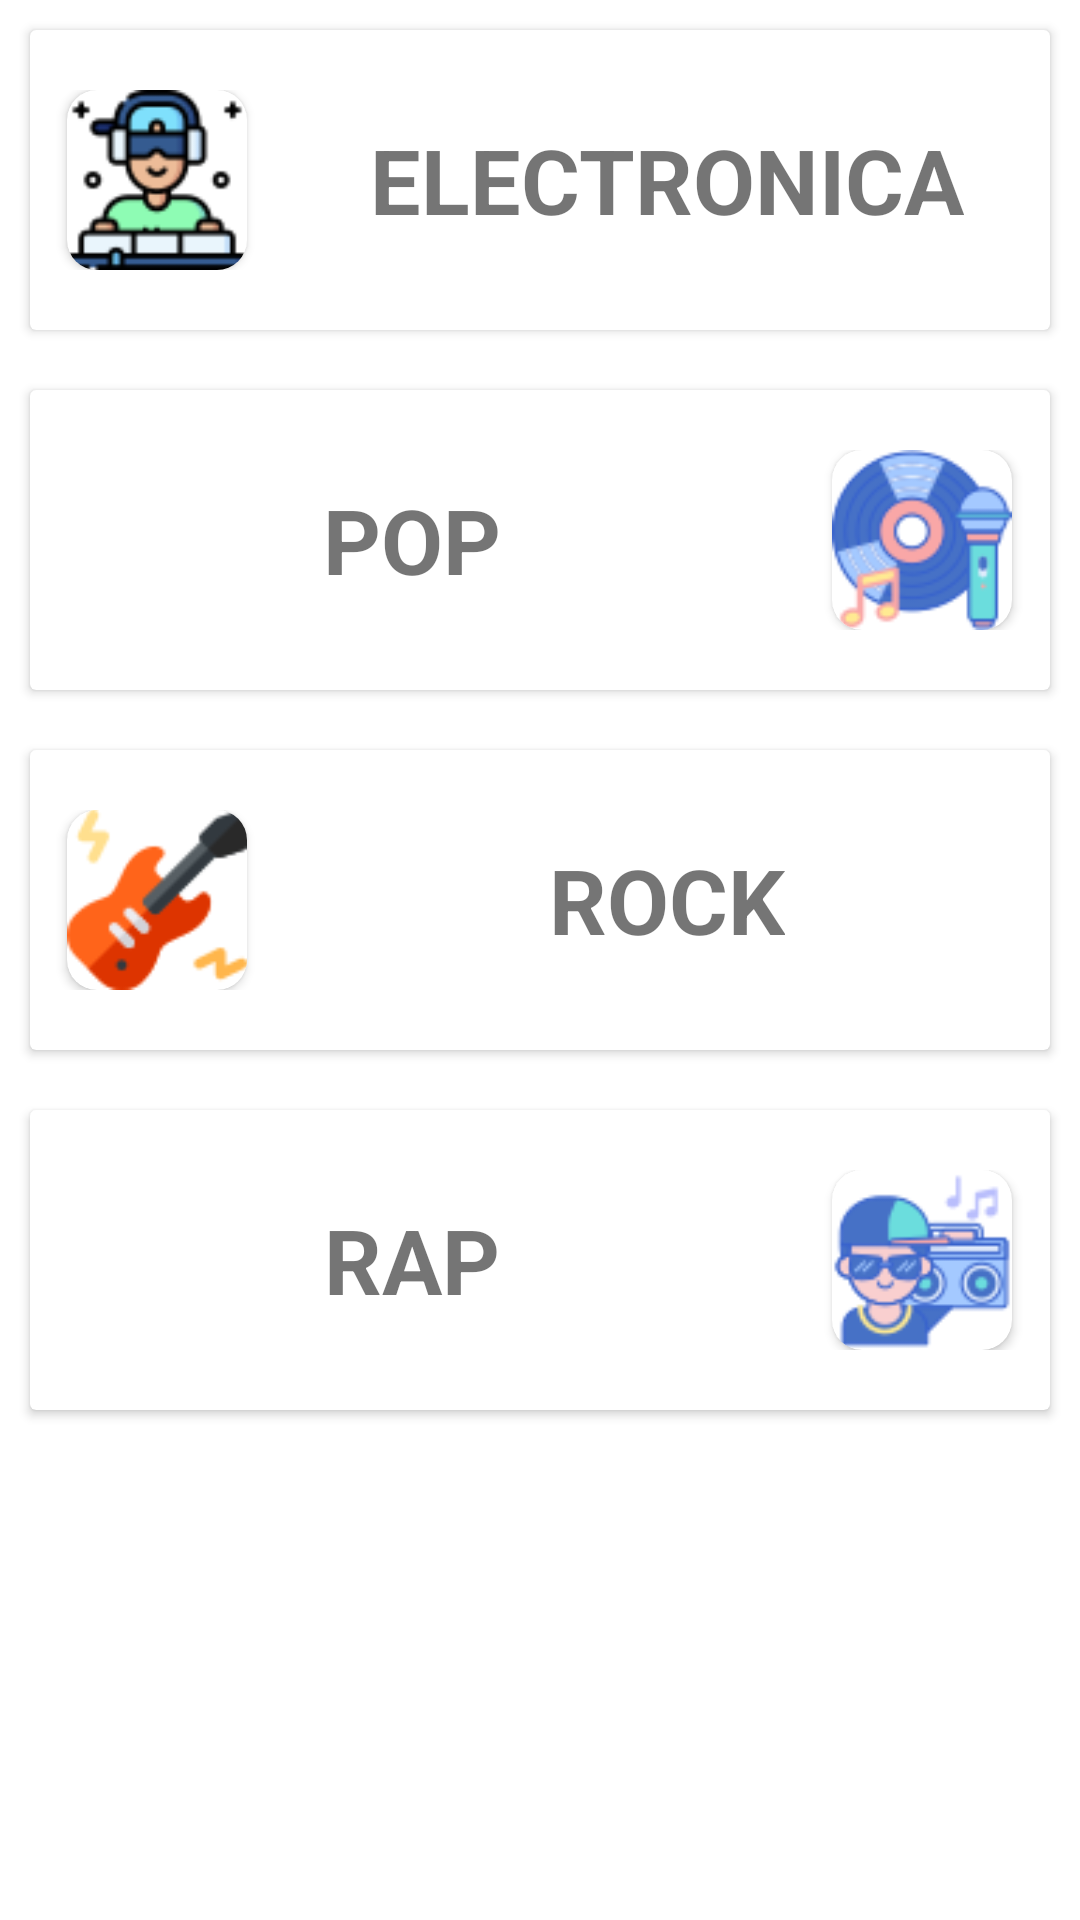

Icons on this 1080 × 1920 Android screen, each with its box as (x1, y1, x2, y2):
bassguitar: (67, 810, 247, 990)
hiphop: (833, 1176, 1012, 1350)
pop: (832, 450, 1012, 630)
